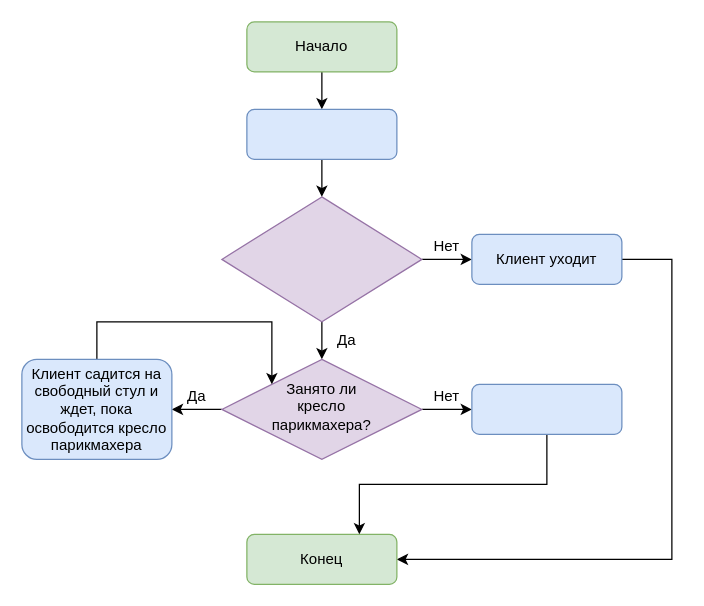
Image size: 704x606. Some labels were removed from this diagram. Here are the shapes that lost their labels. From the top down, the centre of each, then its label:
the point at 321,133: Входит новый клиент
the point at 321,259: Есть ли свободный стул для клиента?
the point at 546,408: Парикмахер обслуживет клиента
